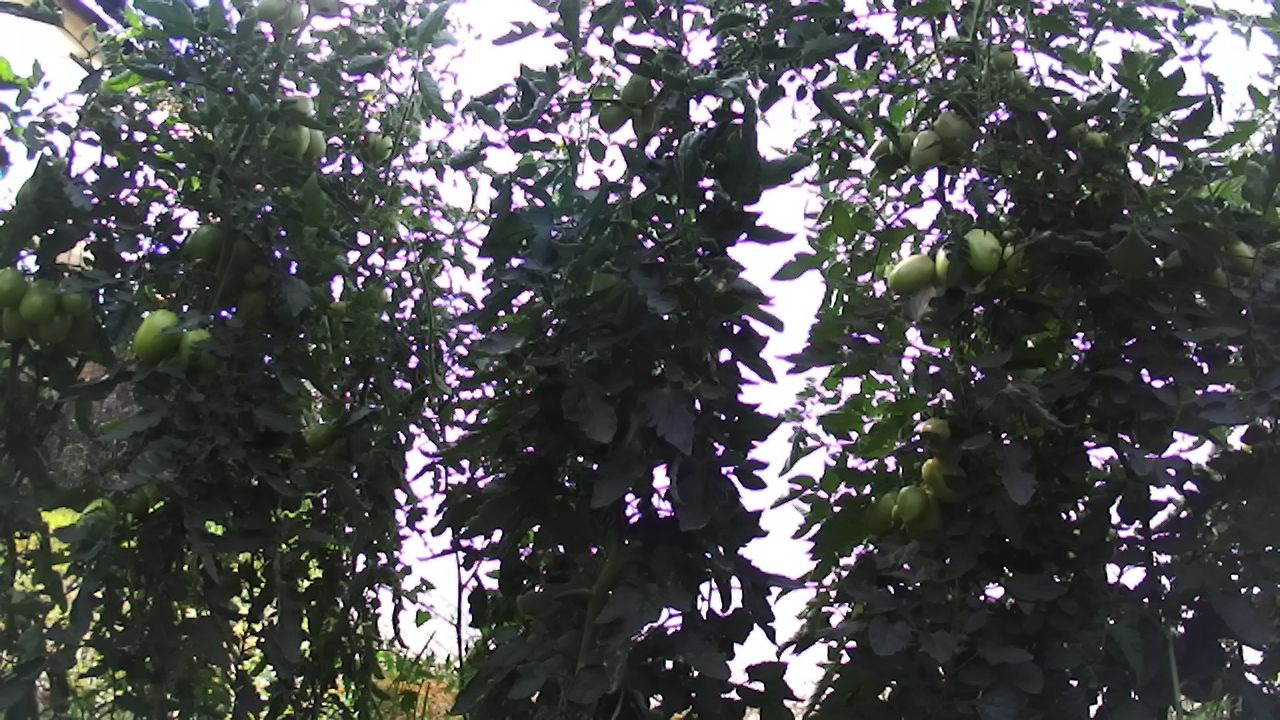tomato: (130, 305, 184, 366), (956, 221, 1006, 280), (15, 273, 60, 327), (885, 251, 938, 295), (904, 126, 947, 173), (34, 304, 77, 347), (0, 303, 38, 346), (894, 482, 929, 527), (56, 288, 96, 320), (0, 261, 26, 308), (306, 421, 338, 454)
